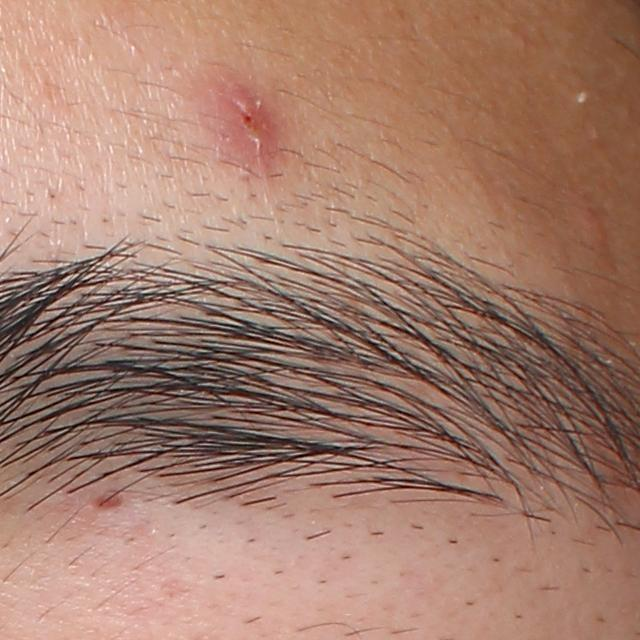papule: (203, 81, 275, 165)
